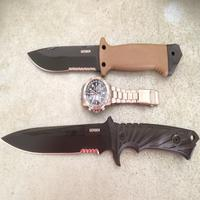knife: (3, 114, 200, 166), (15, 32, 191, 79)
